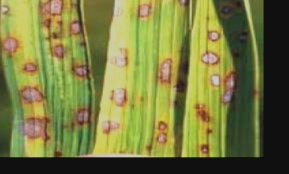Bacterial_Leaf_Blight: (205, 70, 242, 100), (17, 111, 50, 141), (102, 43, 131, 69), (15, 78, 44, 104), (155, 53, 175, 84), (154, 116, 174, 147), (99, 86, 127, 106), (193, 49, 223, 64), (68, 105, 90, 125), (190, 104, 212, 123), (200, 28, 224, 45), (18, 59, 39, 78), (99, 116, 121, 134), (39, 0, 65, 15), (1, 33, 20, 52), (134, 4, 153, 18), (68, 21, 82, 38), (53, 45, 67, 60), (109, 4, 123, 17), (0, 2, 10, 17), (199, 140, 209, 153)
